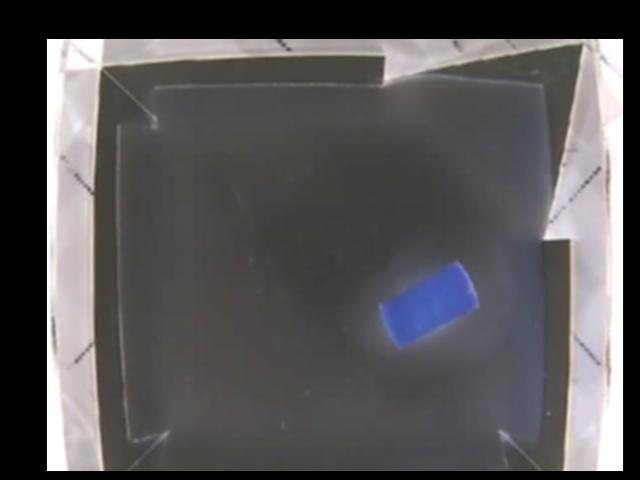Potato: (379, 261, 477, 343)
